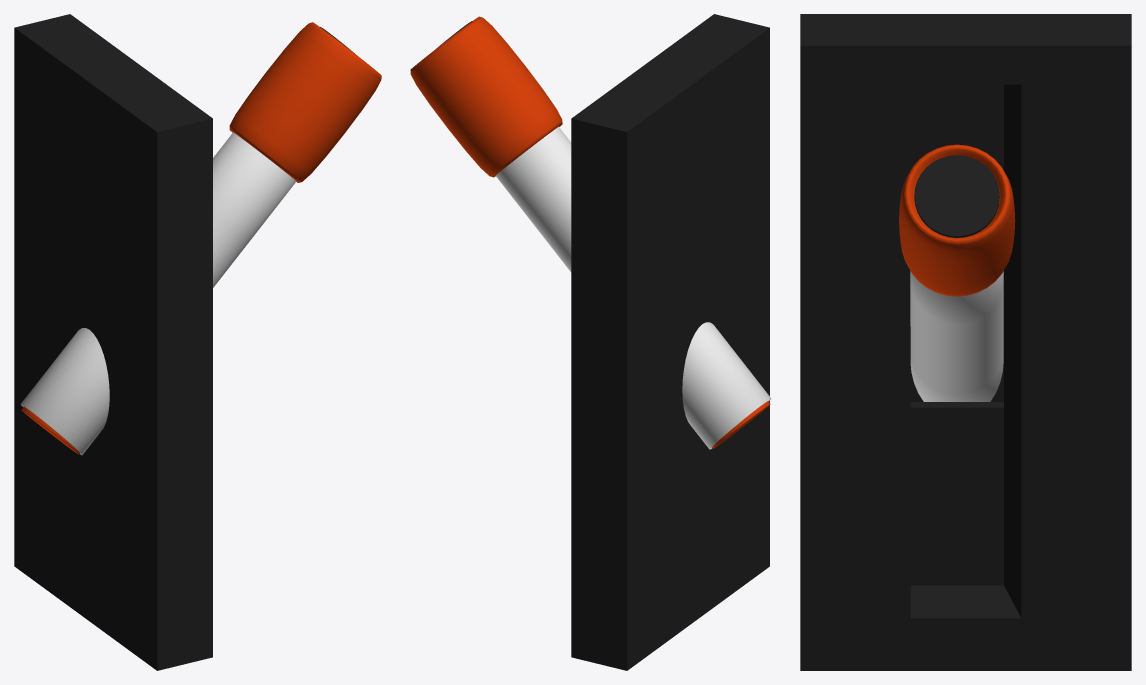
File: palanca.fbx
3 renders of one model, left to right at view 1: azimuth 30°, elevation 25°; view 2: azimuth 150°, elevation 25°; view 3: azimuth 270°, elevation 25°, orthographic. The views are drawn at different scales.
Parts seen in each view (by area): view 1: Cube, Cylinder, Cylinder.001; view 2: Cube, Cylinder, Cylinder.001; view 3: Cube, Cylinder.001, Cylinder, Cylinder.002.
Boxes of the visible parts, bbox=[...] form: Cube: bbox=[14, 14, 212, 670]; Cylinder: bbox=[21, 22, 381, 454]; Cylinder.001: bbox=[20, 132, 296, 455]; Cube: bbox=[571, 14, 769, 670]; Cylinder: bbox=[410, 16, 770, 448]; Cylinder.001: bbox=[495, 126, 771, 449]; Cube: bbox=[800, 14, 1131, 670]; Cylinder.001: bbox=[910, 271, 1003, 401]; Cylinder: bbox=[899, 144, 1015, 296]; Cylinder.002: bbox=[914, 155, 999, 237].
Bounding box in the file's own units: 0.412 × 0.6129 × 0.2946.
